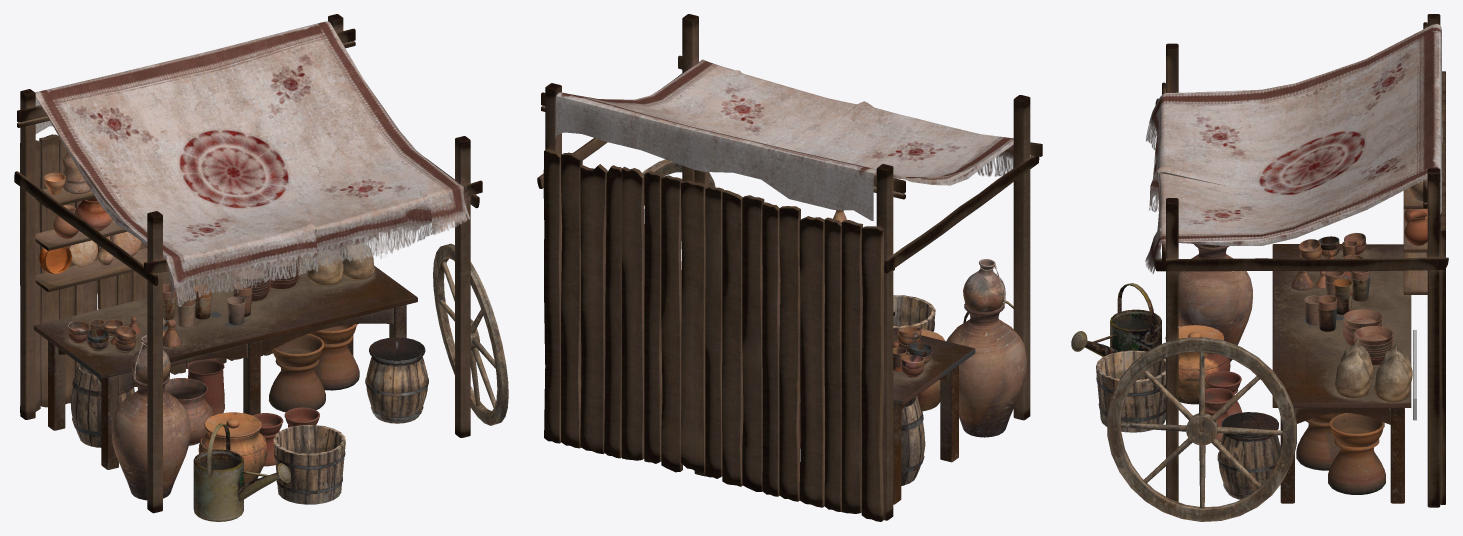
Rendered from shop.glb.
3 views of the same model, side by side, from view 1: azimuth 30°, elevation 25°; view 2: azimuth 150°, elevation 25°; view 3: azimuth 270°, elevation 25° (orthographic). The views are drawn at different scales.
Visible parts, largest first — view 1: XI_FS_Shop.Shape; view 2: XI_FS_Shop.Shape; view 3: XI_FS_Shop.Shape.
Boxes of the visible parts, <box> form: XI_FS_Shop.Shape: <box>14,14,508,521</box>; XI_FS_Shop.Shape: <box>537,14,1042,521</box>; XI_FS_Shop.Shape: <box>1071,14,1448,521</box>.
Size of the model in its own units: 3.16 by 2.66 by 2.72.
2 materials, 2 textured.
